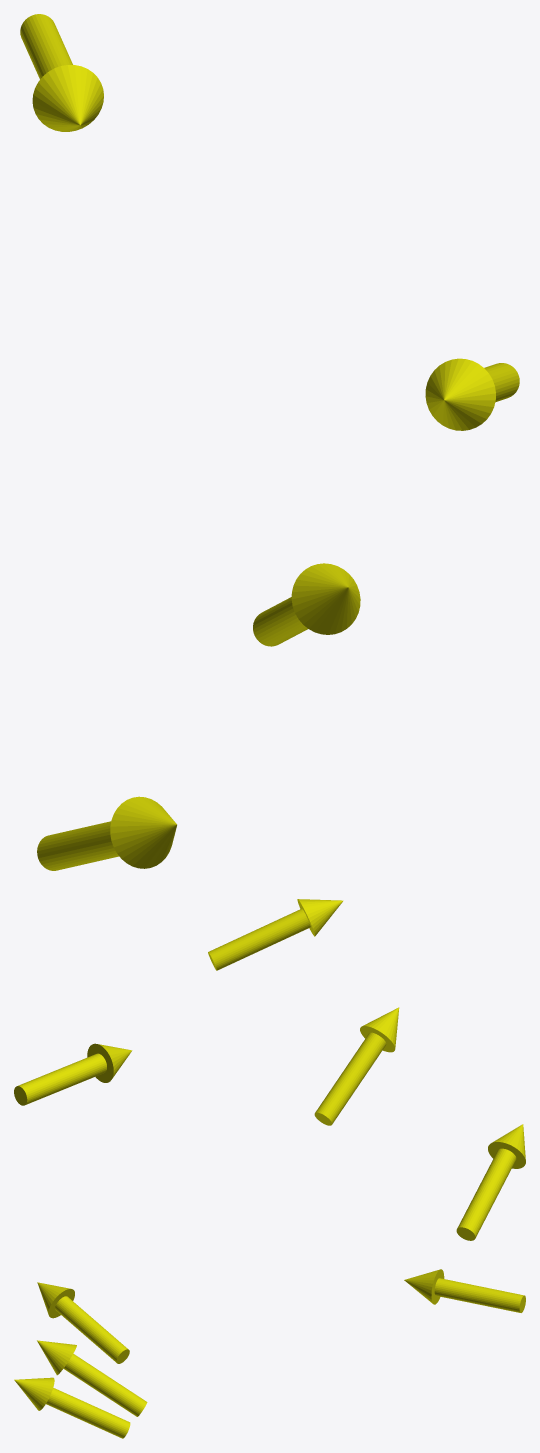
The model's file is forcemap.glb.
The picture shows the model from 3 angles, top to bottom: view 1: azimuth 30°, elevation 25°; view 2: azimuth 150°, elevation 25°; view 3: azimuth 270°, elevation 25°; orthographic projection. The views are drawn at different scales.
Visible parts, largest first — view 1: world; view 2: world; view 3: world.
Boxes of the visible parts, x1=… form: world: x1=20, y1=14, x2=519, y2=870; world: x1=14, y1=899, x2=525, y2=1240; world: x1=14, y1=1269, x2=525, y2=1438.
Size of the model in its own units: 0.0612 by 0.0601 by 0.1128.
